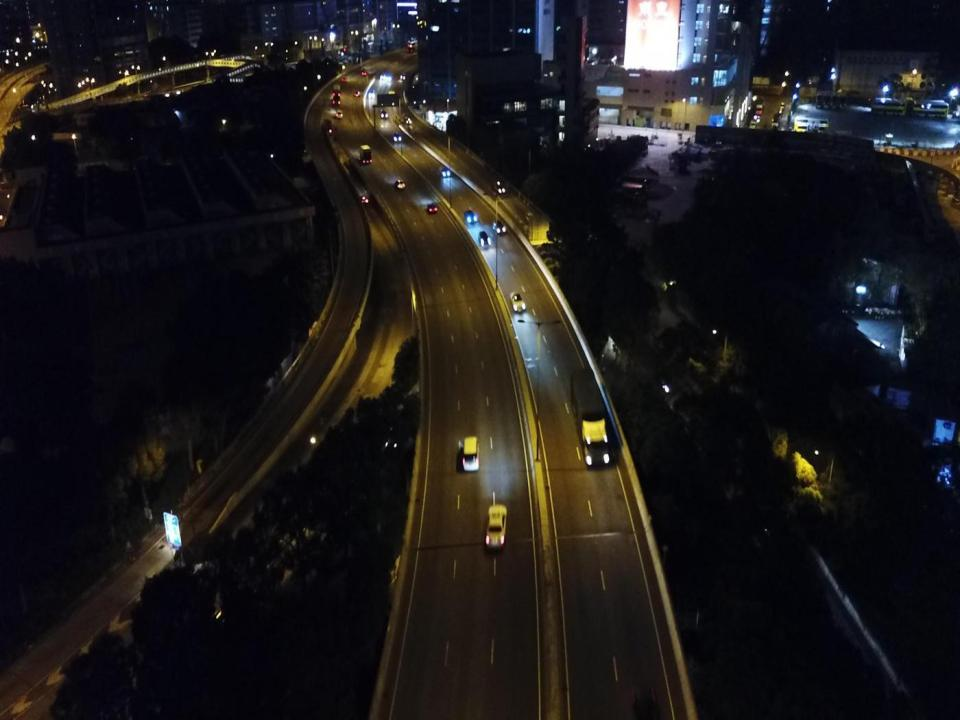bus: (568, 373, 610, 467), (913, 99, 949, 118), (794, 115, 829, 134), (871, 98, 907, 115), (332, 83, 341, 105), (816, 91, 825, 108), (831, 92, 839, 109), (838, 93, 846, 109), (824, 92, 832, 108), (388, 91, 396, 105)
car: (484, 504, 508, 554), (509, 292, 526, 312), (492, 219, 506, 235), (478, 230, 490, 246), (464, 209, 477, 223), (494, 181, 506, 193), (525, 212, 537, 223), (426, 203, 437, 214), (440, 167, 450, 178), (395, 180, 405, 189), (380, 109, 388, 119), (360, 195, 368, 204), (404, 116, 412, 124), (336, 109, 343, 118), (368, 90, 375, 98), (753, 114, 760, 122), (380, 73, 387, 80), (386, 74, 392, 81), (400, 72, 405, 80), (176, 89, 184, 94), (164, 93, 174, 97), (354, 90, 360, 96), (362, 70, 368, 75), (342, 78, 347, 82)
truck: (360, 144, 372, 164), (772, 112, 780, 129), (756, 101, 763, 115), (393, 132, 401, 142), (750, 120, 756, 129)
van: (460, 435, 480, 470), (780, 101, 784, 109)
